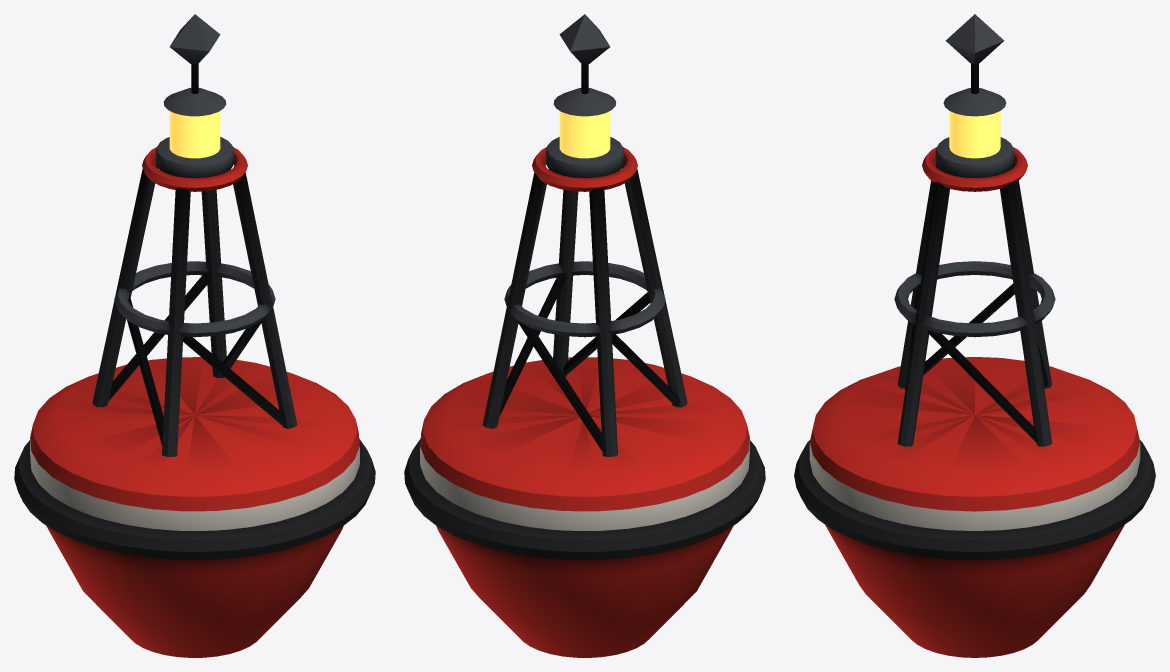
The model's file is buoy.glb.
3 renders of one model, left to right at view 1: azimuth 30°, elevation 25°; view 2: azimuth 150°, elevation 25°; view 3: azimuth 270°, elevation 25°, orthographic.
Parts seen in each view (by area): view 1: buoy; view 2: buoy; view 3: buoy.
Part boxes in pixels (x1=…): buoy: x1=14, y1=14, x2=375, y2=657; buoy: x1=404, y1=14, x2=765, y2=657; buoy: x1=794, y1=14, x2=1155, y2=657.
Bounding box in the file's own units: 0.368 × 0.69 × 0.368.
